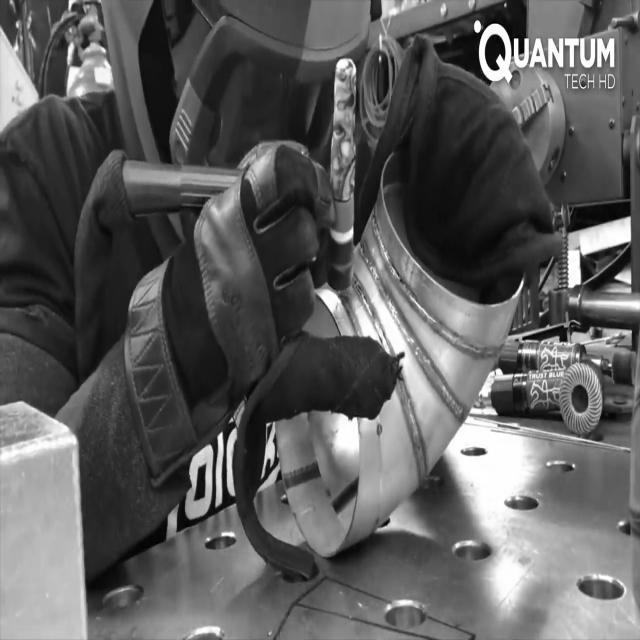Good Weld: (397, 290, 499, 426)
